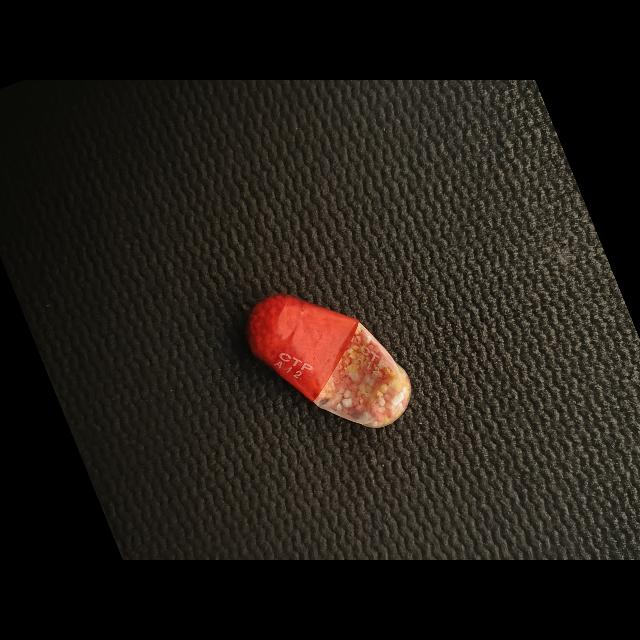Defective Capsule: (246, 294, 411, 428)
